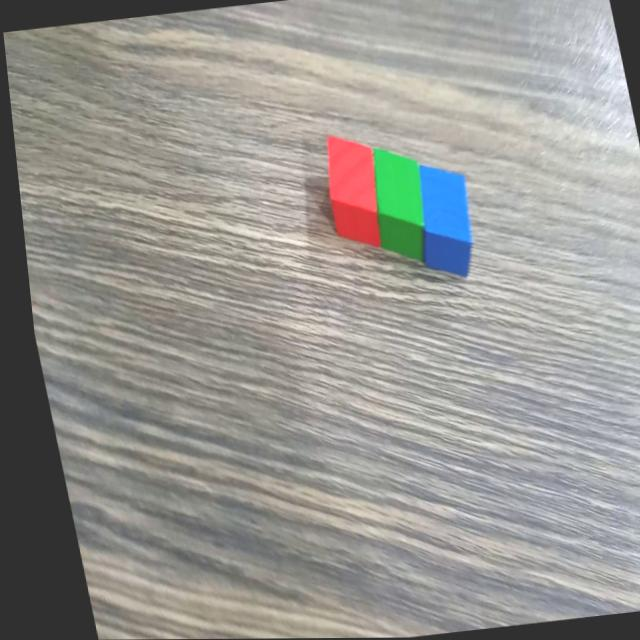cube: (406, 157, 482, 284), (310, 127, 387, 250), (359, 139, 432, 263)
